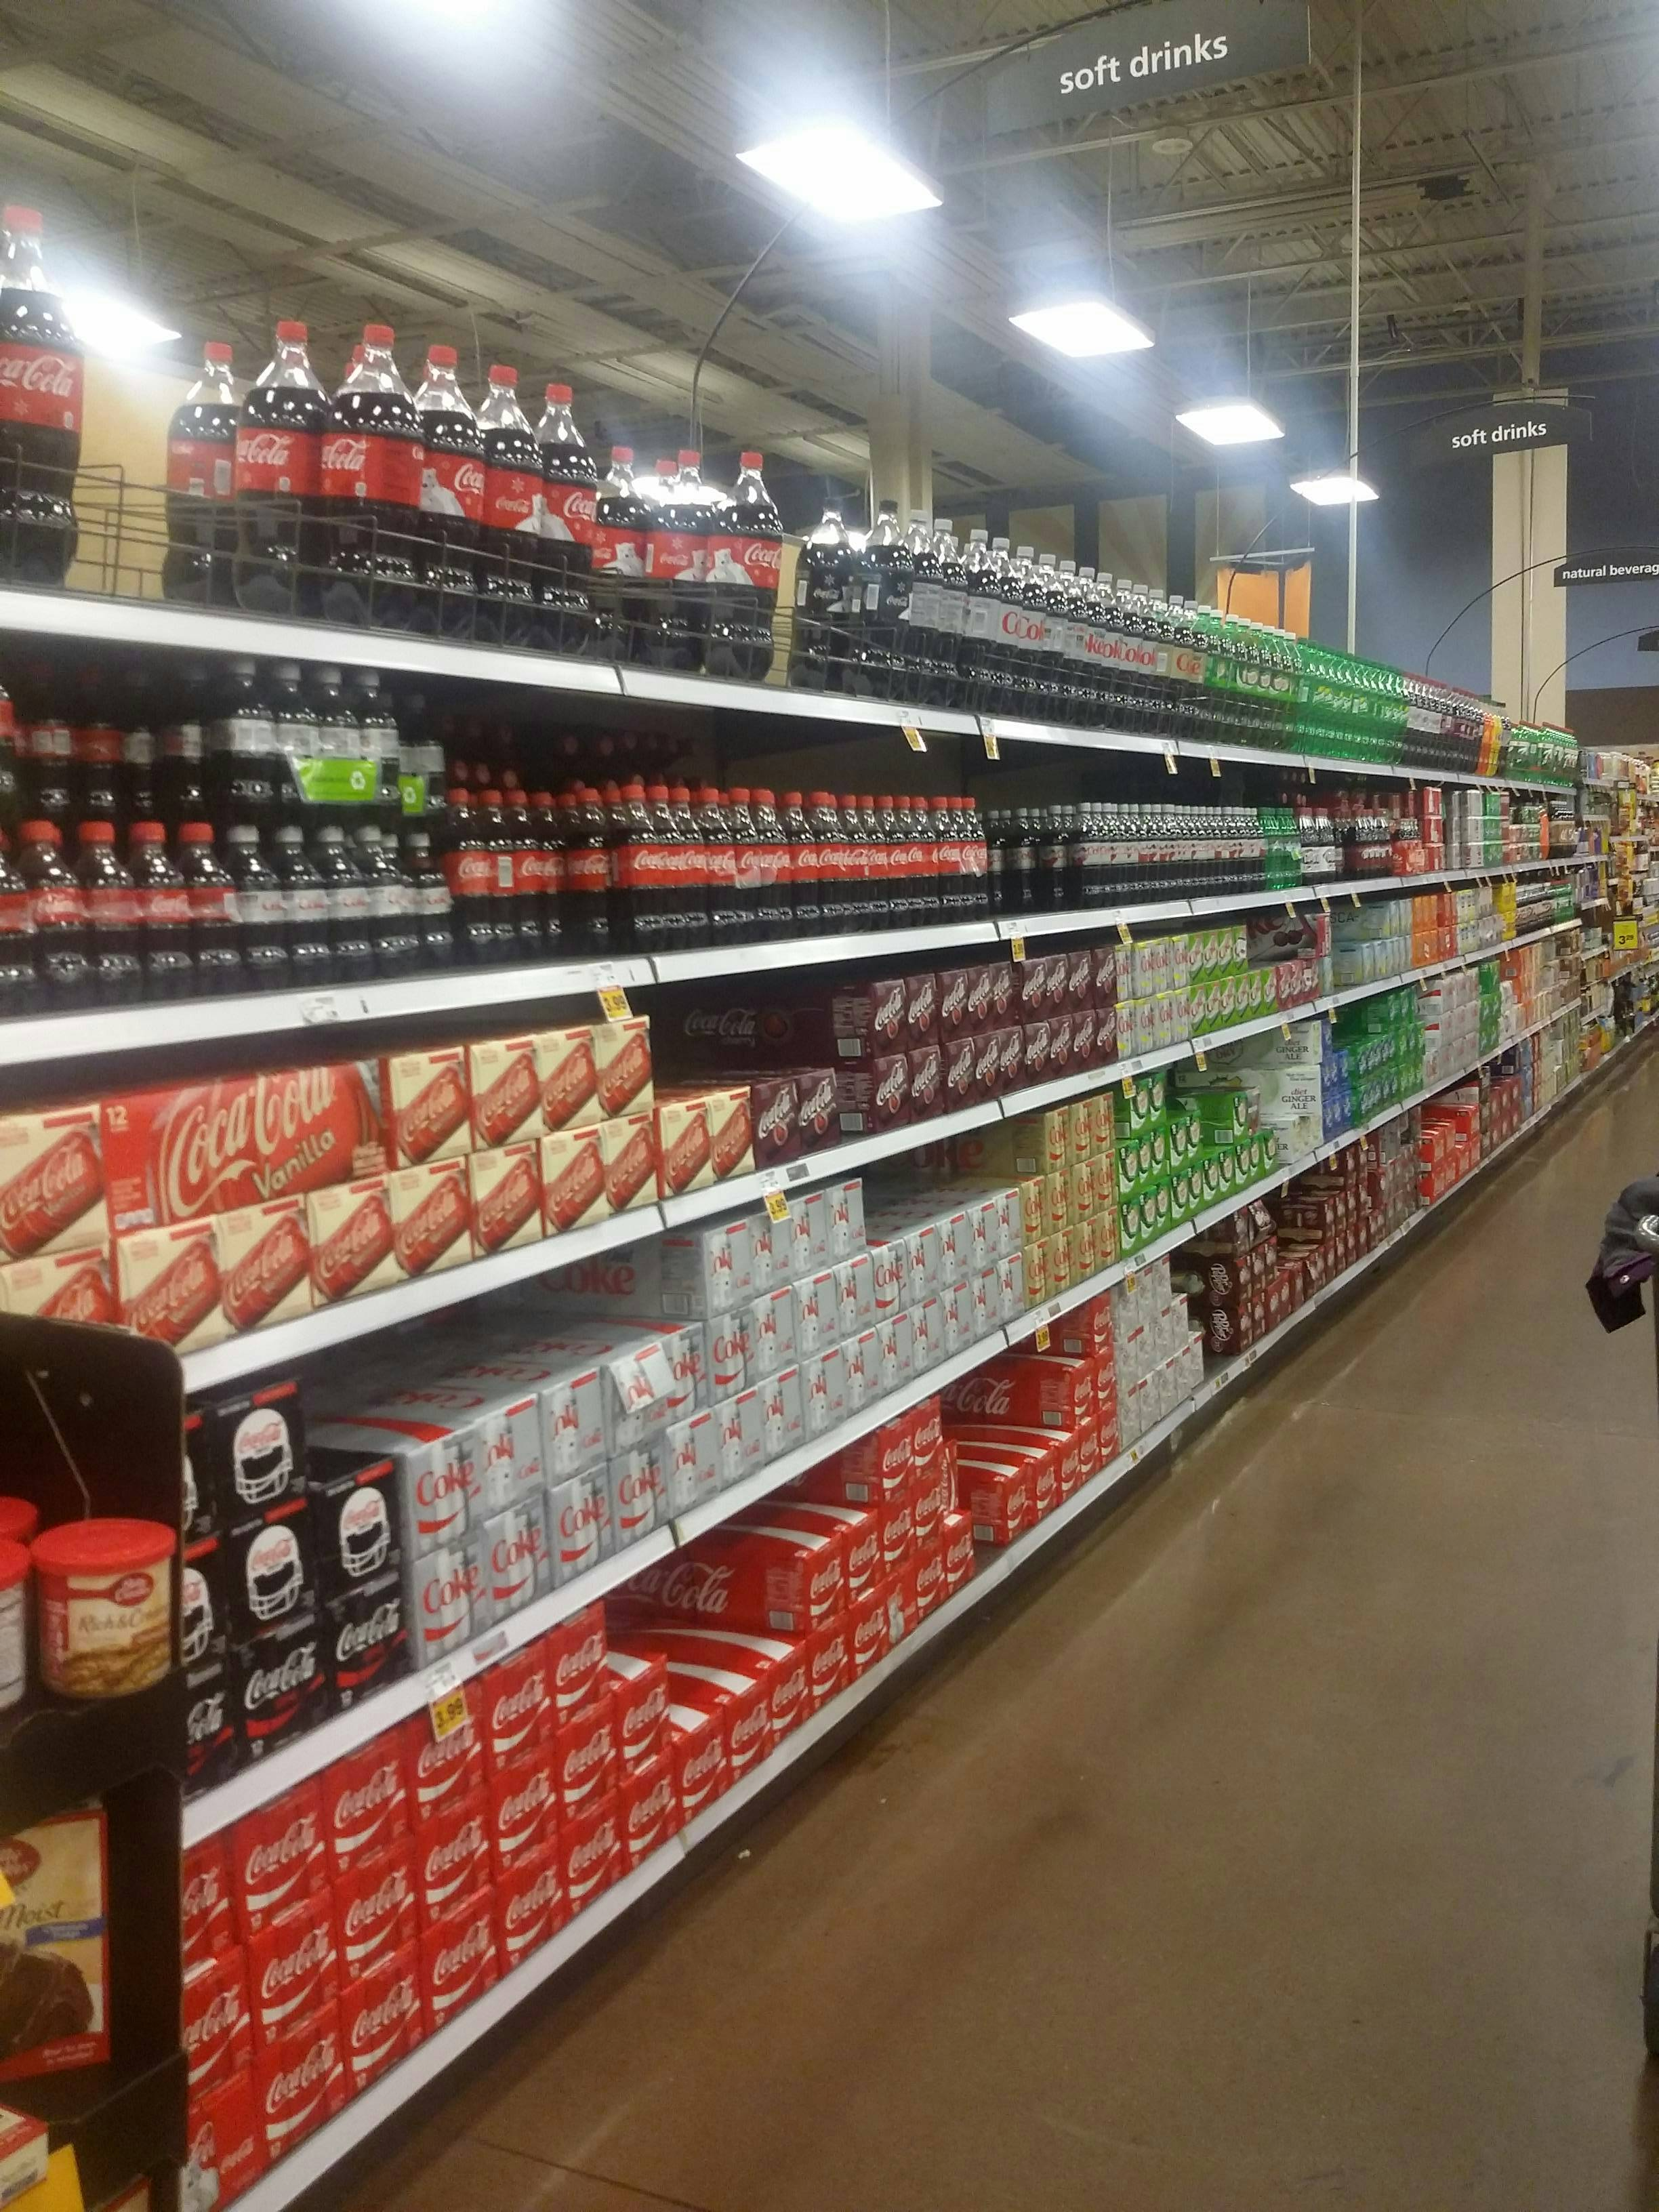Misplacement: (596, 1543, 810, 1827), (861, 1116, 1040, 1383), (652, 981, 836, 1202), (451, 784, 622, 981)
Out-of-stock: (981, 806, 1087, 920), (1201, 1228, 1241, 1381), (955, 1467, 1004, 1583), (1331, 900, 1364, 996)
